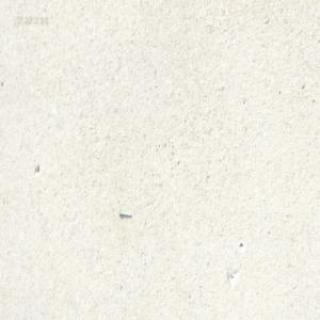Nailtrack_idkeyframe: (117, 208, 133, 219)
